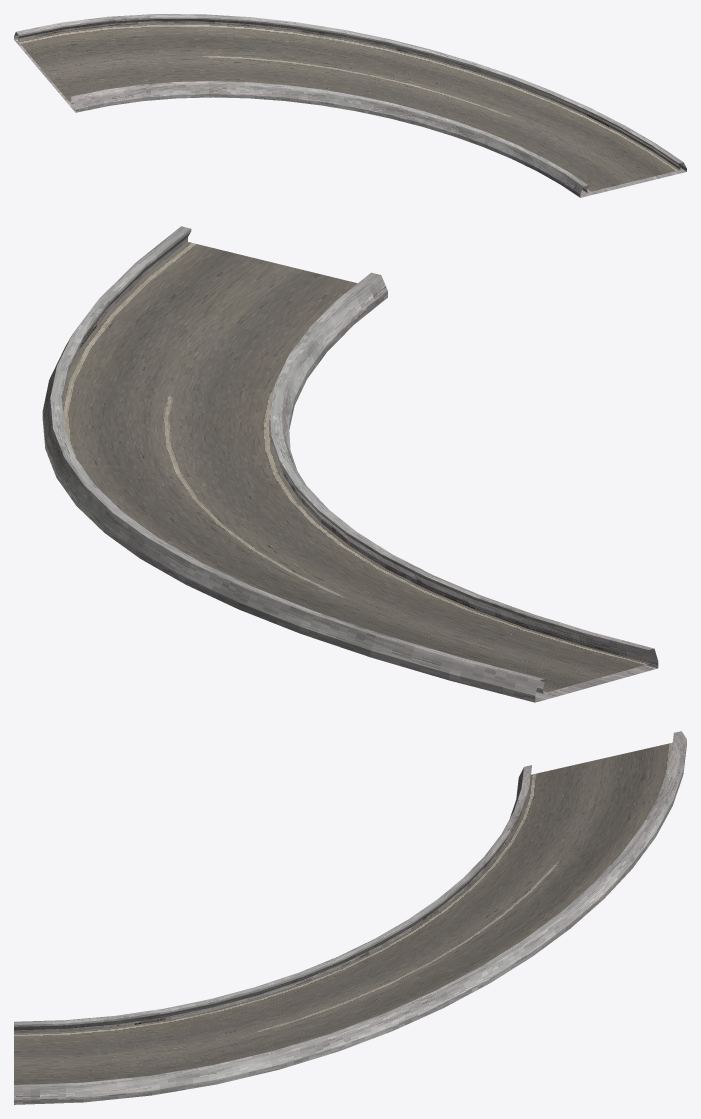
The model's file is road-Turn-Flat-HalfBankedLeft-Up1-Left-Size4.glb.
The picture shows the model from 3 angles, top to bottom: view 1: azimuth 30°, elevation 25°; view 2: azimuth 150°, elevation 25°; view 3: azimuth 270°, elevation 25°; orthographic projection. The views are drawn at different scales.
Parts seen in each view (by area): view 1: road-Turn-Flat-HalfBankedLeft-Up1-Left-Size4; view 2: road-Turn-Flat-HalfBankedLeft-Up1-Left-Size4; view 3: road-Turn-Flat-HalfBankedLeft-Up1-Left-Size4.
Part boxes in pixels (box(x1,y1,x2,y2)): road-Turn-Flat-HalfBankedLeft-Up1-Left-Size4: box(14, 14, 686, 197); road-Turn-Flat-HalfBankedLeft-Up1-Left-Size4: box(42, 226, 658, 702); road-Turn-Flat-HalfBankedLeft-Up1-Left-Size4: box(14, 731, 686, 1104).
Size of the model in its own units: 4 by 0.5859 by 4.
2 materials, 2 textured.
